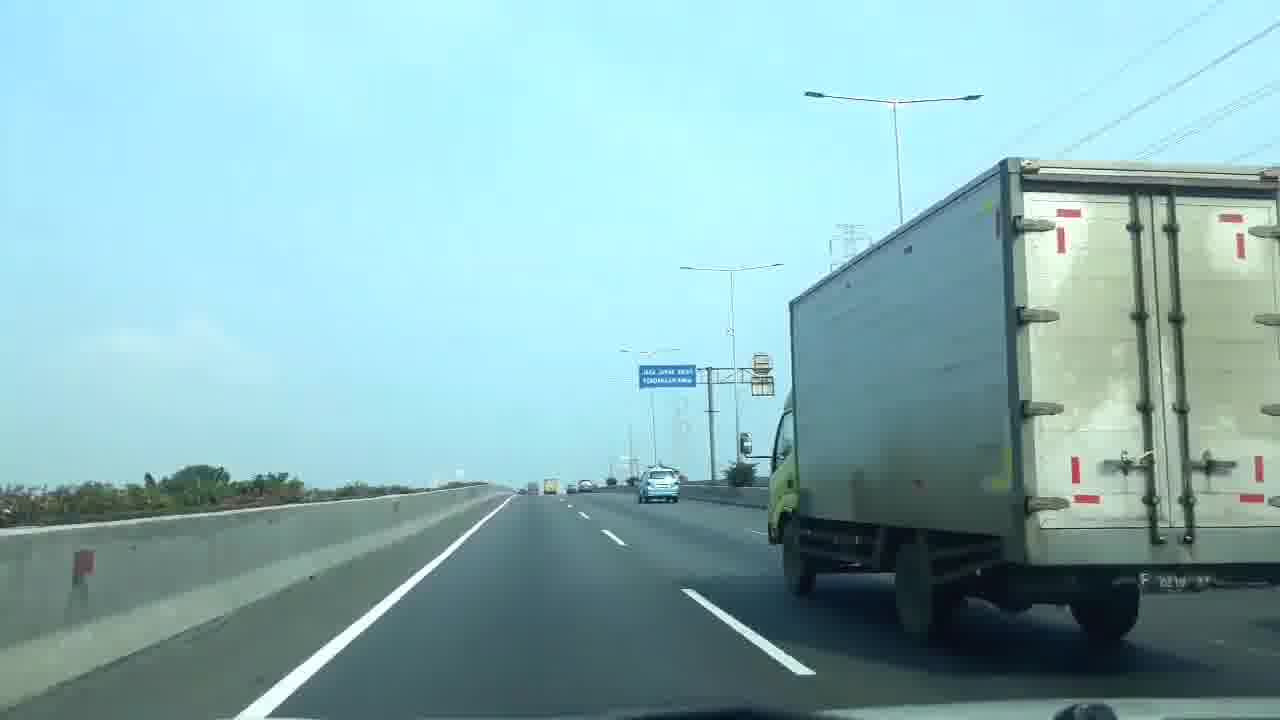plate_positive: (1137, 571, 1215, 595)
